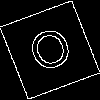O: (25, 25, 79, 83)
